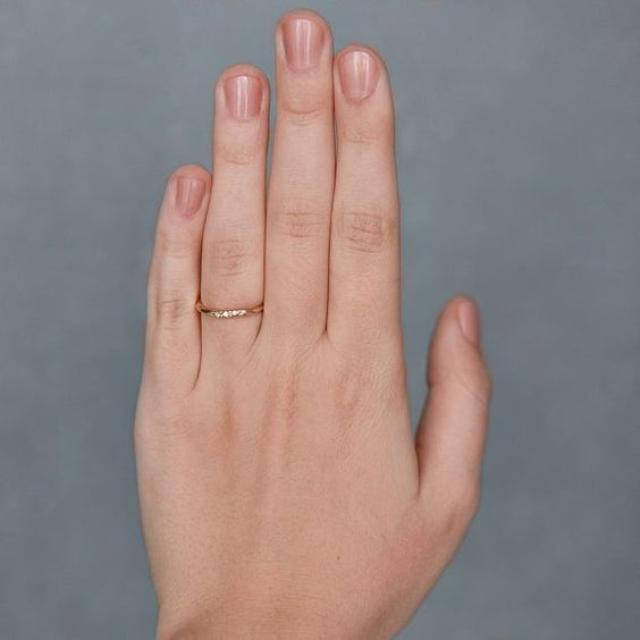Fingernail: (283, 20, 326, 78), (338, 50, 378, 105), (225, 74, 264, 124), (175, 176, 204, 223), (458, 301, 481, 349)
